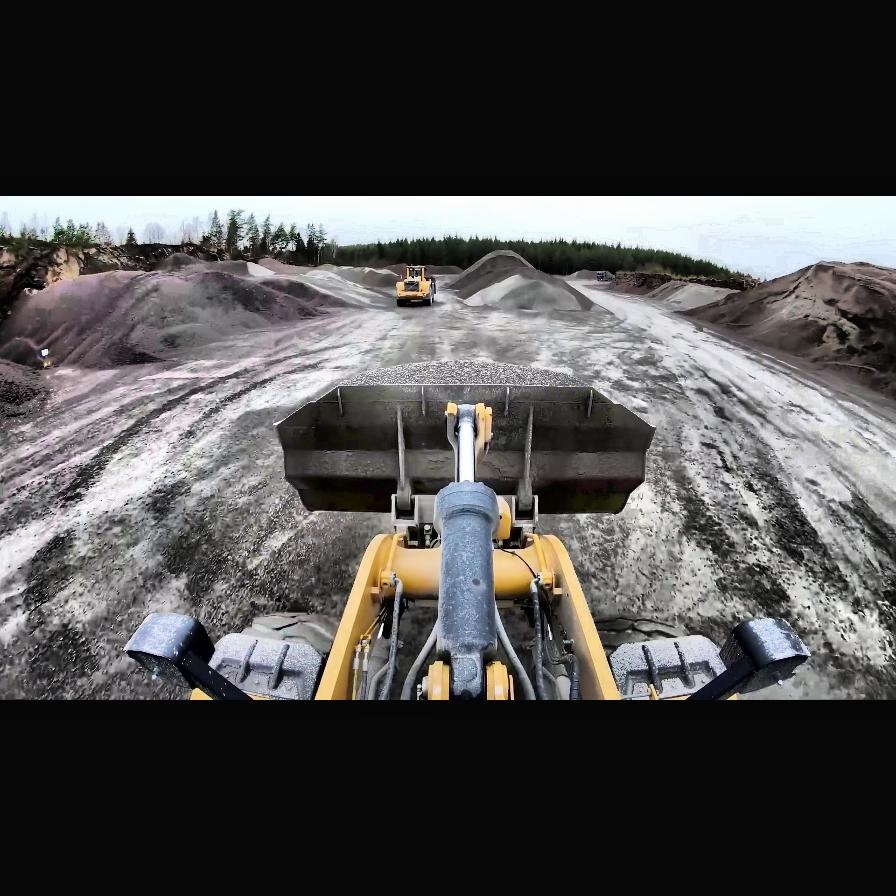anchor: (444, 401, 492, 481)
pile of gravel: (1, 248, 358, 374), (666, 258, 896, 410), (448, 252, 593, 312), (680, 270, 784, 328), (283, 268, 387, 309), (648, 281, 732, 311), (244, 262, 278, 276)
